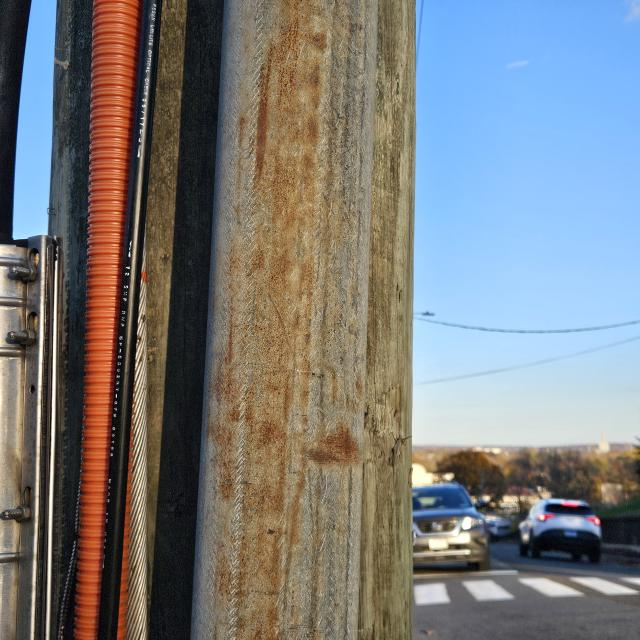Uniform Corrosion: (194, 2, 420, 640)
